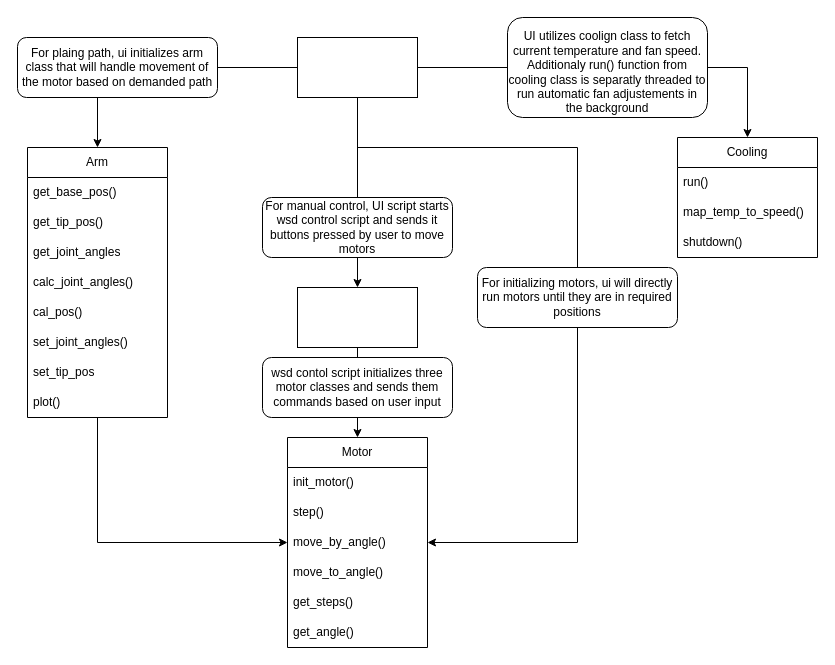
Some shapes in this 835 by 665 pixel diagram are drawn without their labels. Each missing label, with the centre of its shape:
"UI" goes at point (357, 67).
"wsd_control" goes at point (357, 317).
